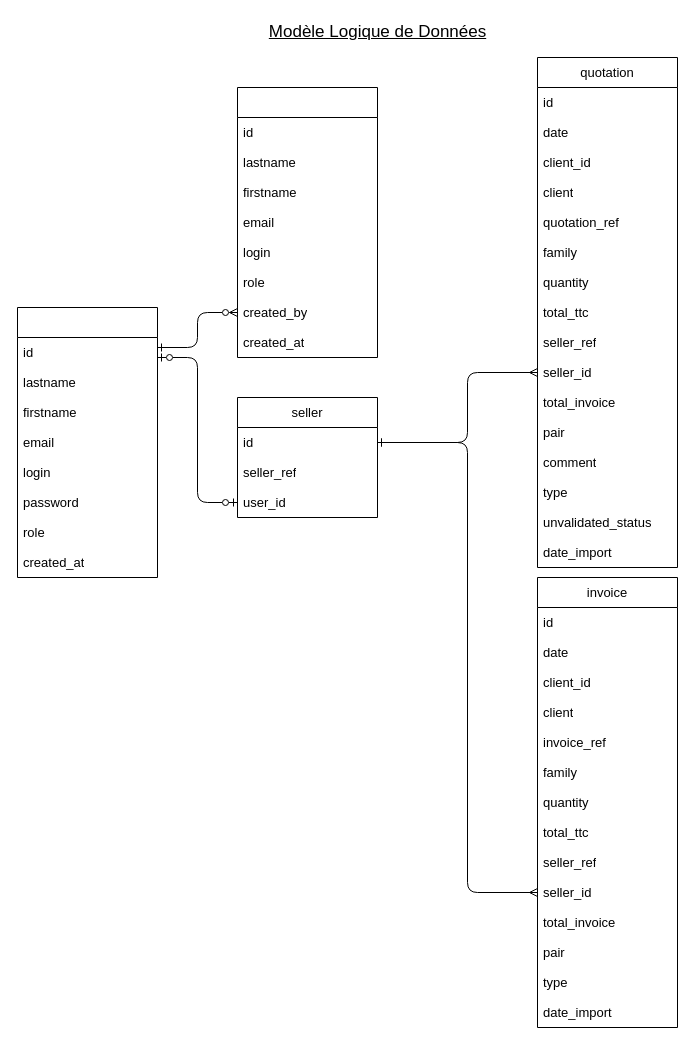
Some shapes in this 695 by 1045 pixel diagram are drawn without their labels. The shapes that lost their labels are listed below. From the top down, each one's box as (x1, y1, x2, y2) in pixels, then its label:
(236, 86, 378, 358): pending_accounts
(16, 306, 158, 578): user
